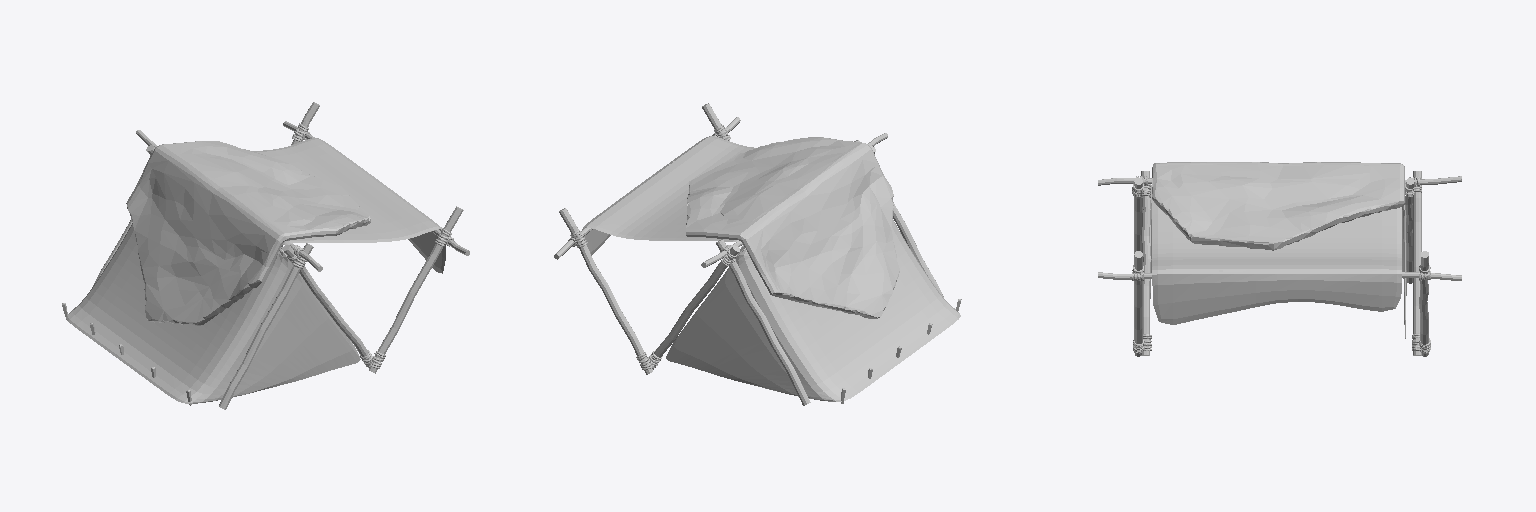
Rendered from lowpoly_viking_tent_003.obj.
The picture shows the model from 3 angles: view 1: azimuth 30°, elevation 25°; view 2: azimuth 150°, elevation 25°; view 3: azimuth 270°, elevation 25°; orthographic projection.
Visible parts, largest first — view 1: Plane.006, Plane.000, Cylinder.018, Cylinder.022, Cylinder.017, BezierCircle.168; view 2: Plane.006, Plane.000, Cylinder.020, Cylinder.021, Cylinder.019, Cylinder.018, BezierCircle.168; view 3: Plane.006, Plane.000, Cylinder.019, Cylinder.017, Cylinder.022, Cylinder.021, BezierCircle.168, Cylinder.020, Cylinder.023.
Boxes of the visible parts, x1,y1,x2,y2 form: Plane.006: [66, 138, 445, 403]; Plane.000: [126, 141, 370, 325]; Cylinder.018: [219, 243, 313, 409]; Cylinder.022: [369, 206, 463, 373]; Cylinder.017: [282, 245, 371, 367]; BezierCircle.168: [292, 123, 454, 368]; Plane.006: [582, 136, 960, 401]; Plane.000: [686, 137, 899, 318]; Cylinder.020: [716, 239, 810, 405]; Cylinder.021: [559, 208, 652, 374]; Cylinder.019: [652, 245, 739, 369]; Cylinder.018: [854, 140, 943, 297]; BezierCircle.168: [568, 125, 730, 369]; Plane.006: [1150, 178, 1406, 338]; Plane.000: [1152, 162, 1404, 250]; Cylinder.019: [1413, 171, 1421, 355]; Cylinder.017: [1141, 171, 1151, 355]; Cylinder.022: [1134, 251, 1142, 356]; Cylinder.021: [1419, 251, 1428, 356]; BezierCircle.168: [1132, 265, 1430, 353]; Cylinder.020: [1405, 178, 1414, 283]; Cylinder.023: [1098, 270, 1461, 280].
Bounding box in the file's own units: 7.71 × 4.16 × 8.92.